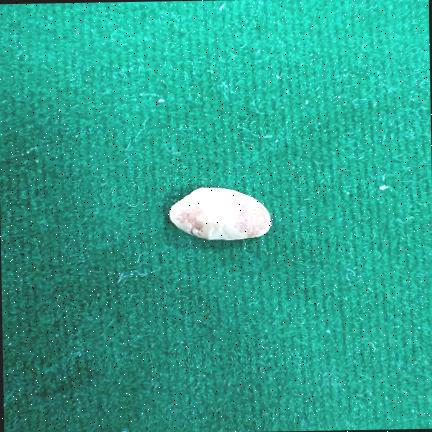shell: (169, 187, 270, 240), (234, 202, 269, 237)
